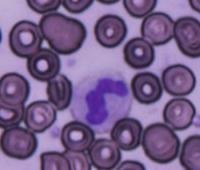N: (69, 71, 134, 133)
